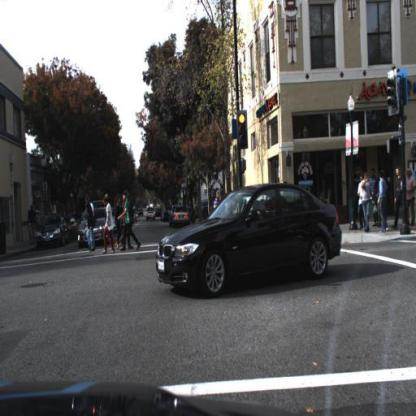car: (157, 183, 344, 296), (35, 210, 69, 253)
pedestrian: (120, 191, 142, 253), (104, 196, 116, 255), (85, 198, 97, 253), (85, 202, 97, 255), (370, 169, 381, 226), (356, 178, 367, 232), (370, 171, 380, 229), (26, 202, 38, 250), (379, 172, 388, 230), (395, 169, 403, 229), (363, 178, 372, 230), (380, 177, 388, 229), (87, 198, 95, 249), (406, 168, 413, 226), (359, 176, 365, 236), (28, 206, 37, 245), (214, 191, 224, 226)
trafficLight: (237, 110, 249, 148)
